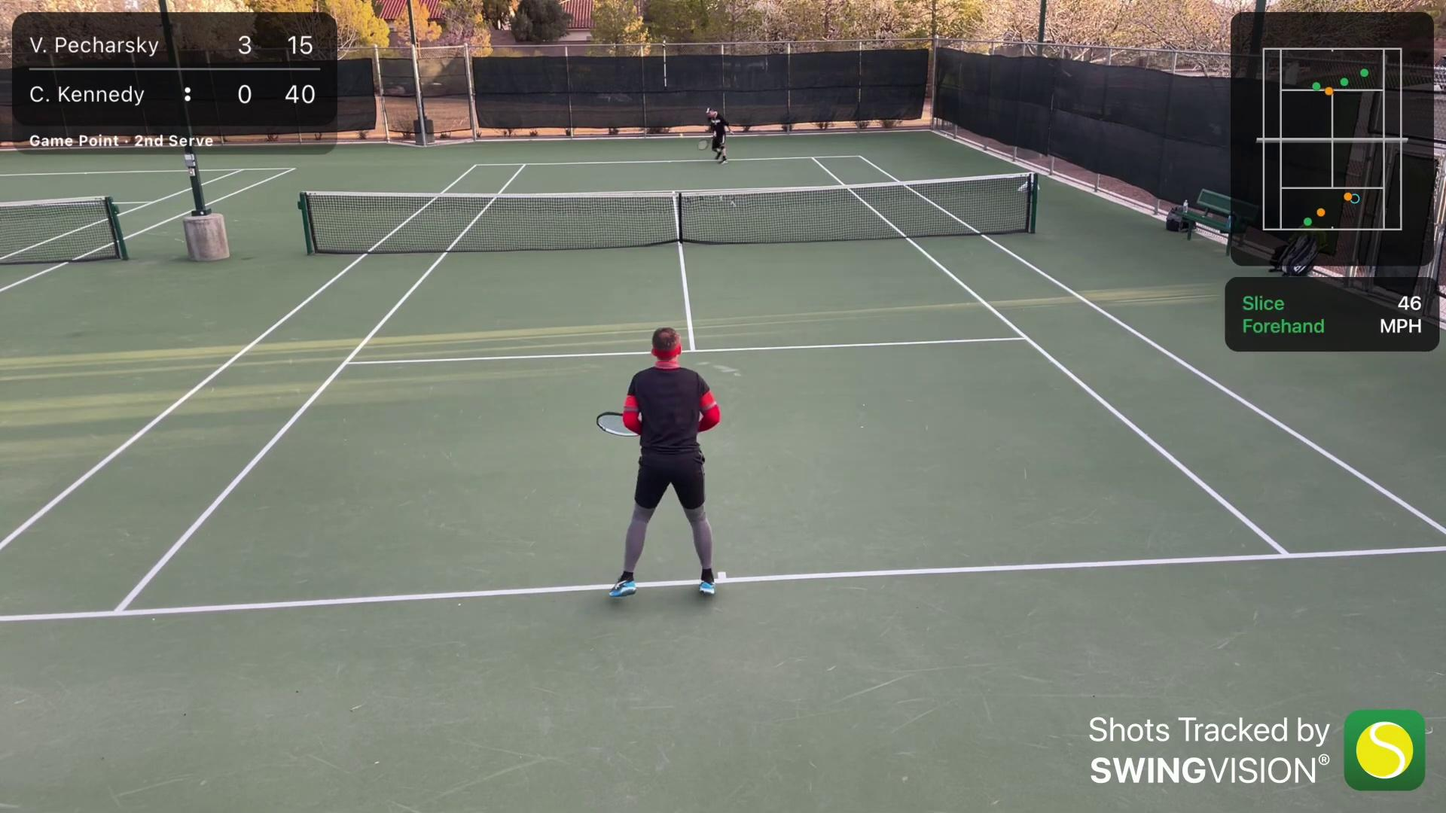ball: (677, 132, 687, 140)
